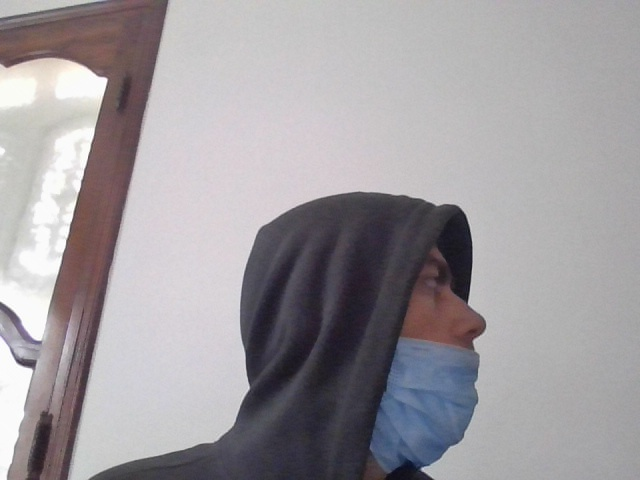mask_weared_incorrect: (358, 223, 506, 476)
